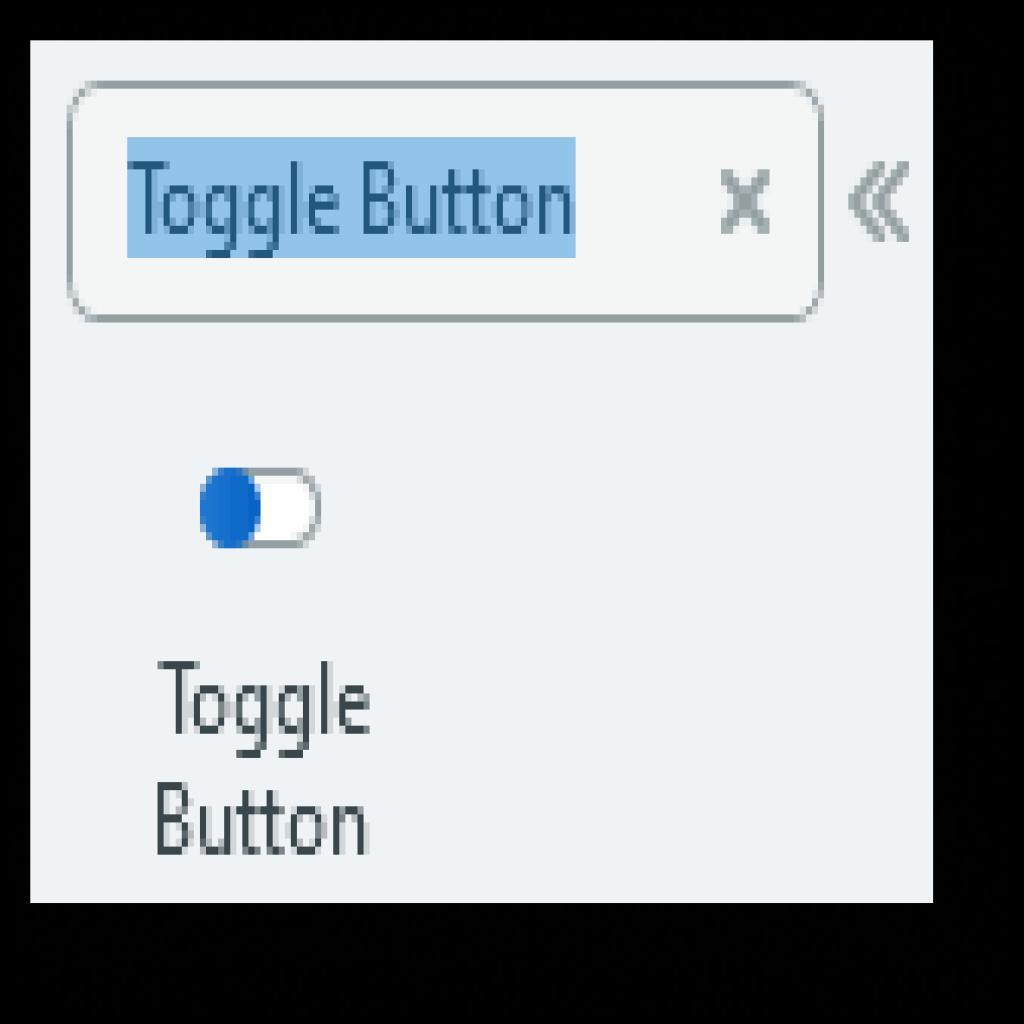button: (69, 80, 825, 322)
label: (139, 643, 379, 867)
switch: (199, 465, 321, 546)
